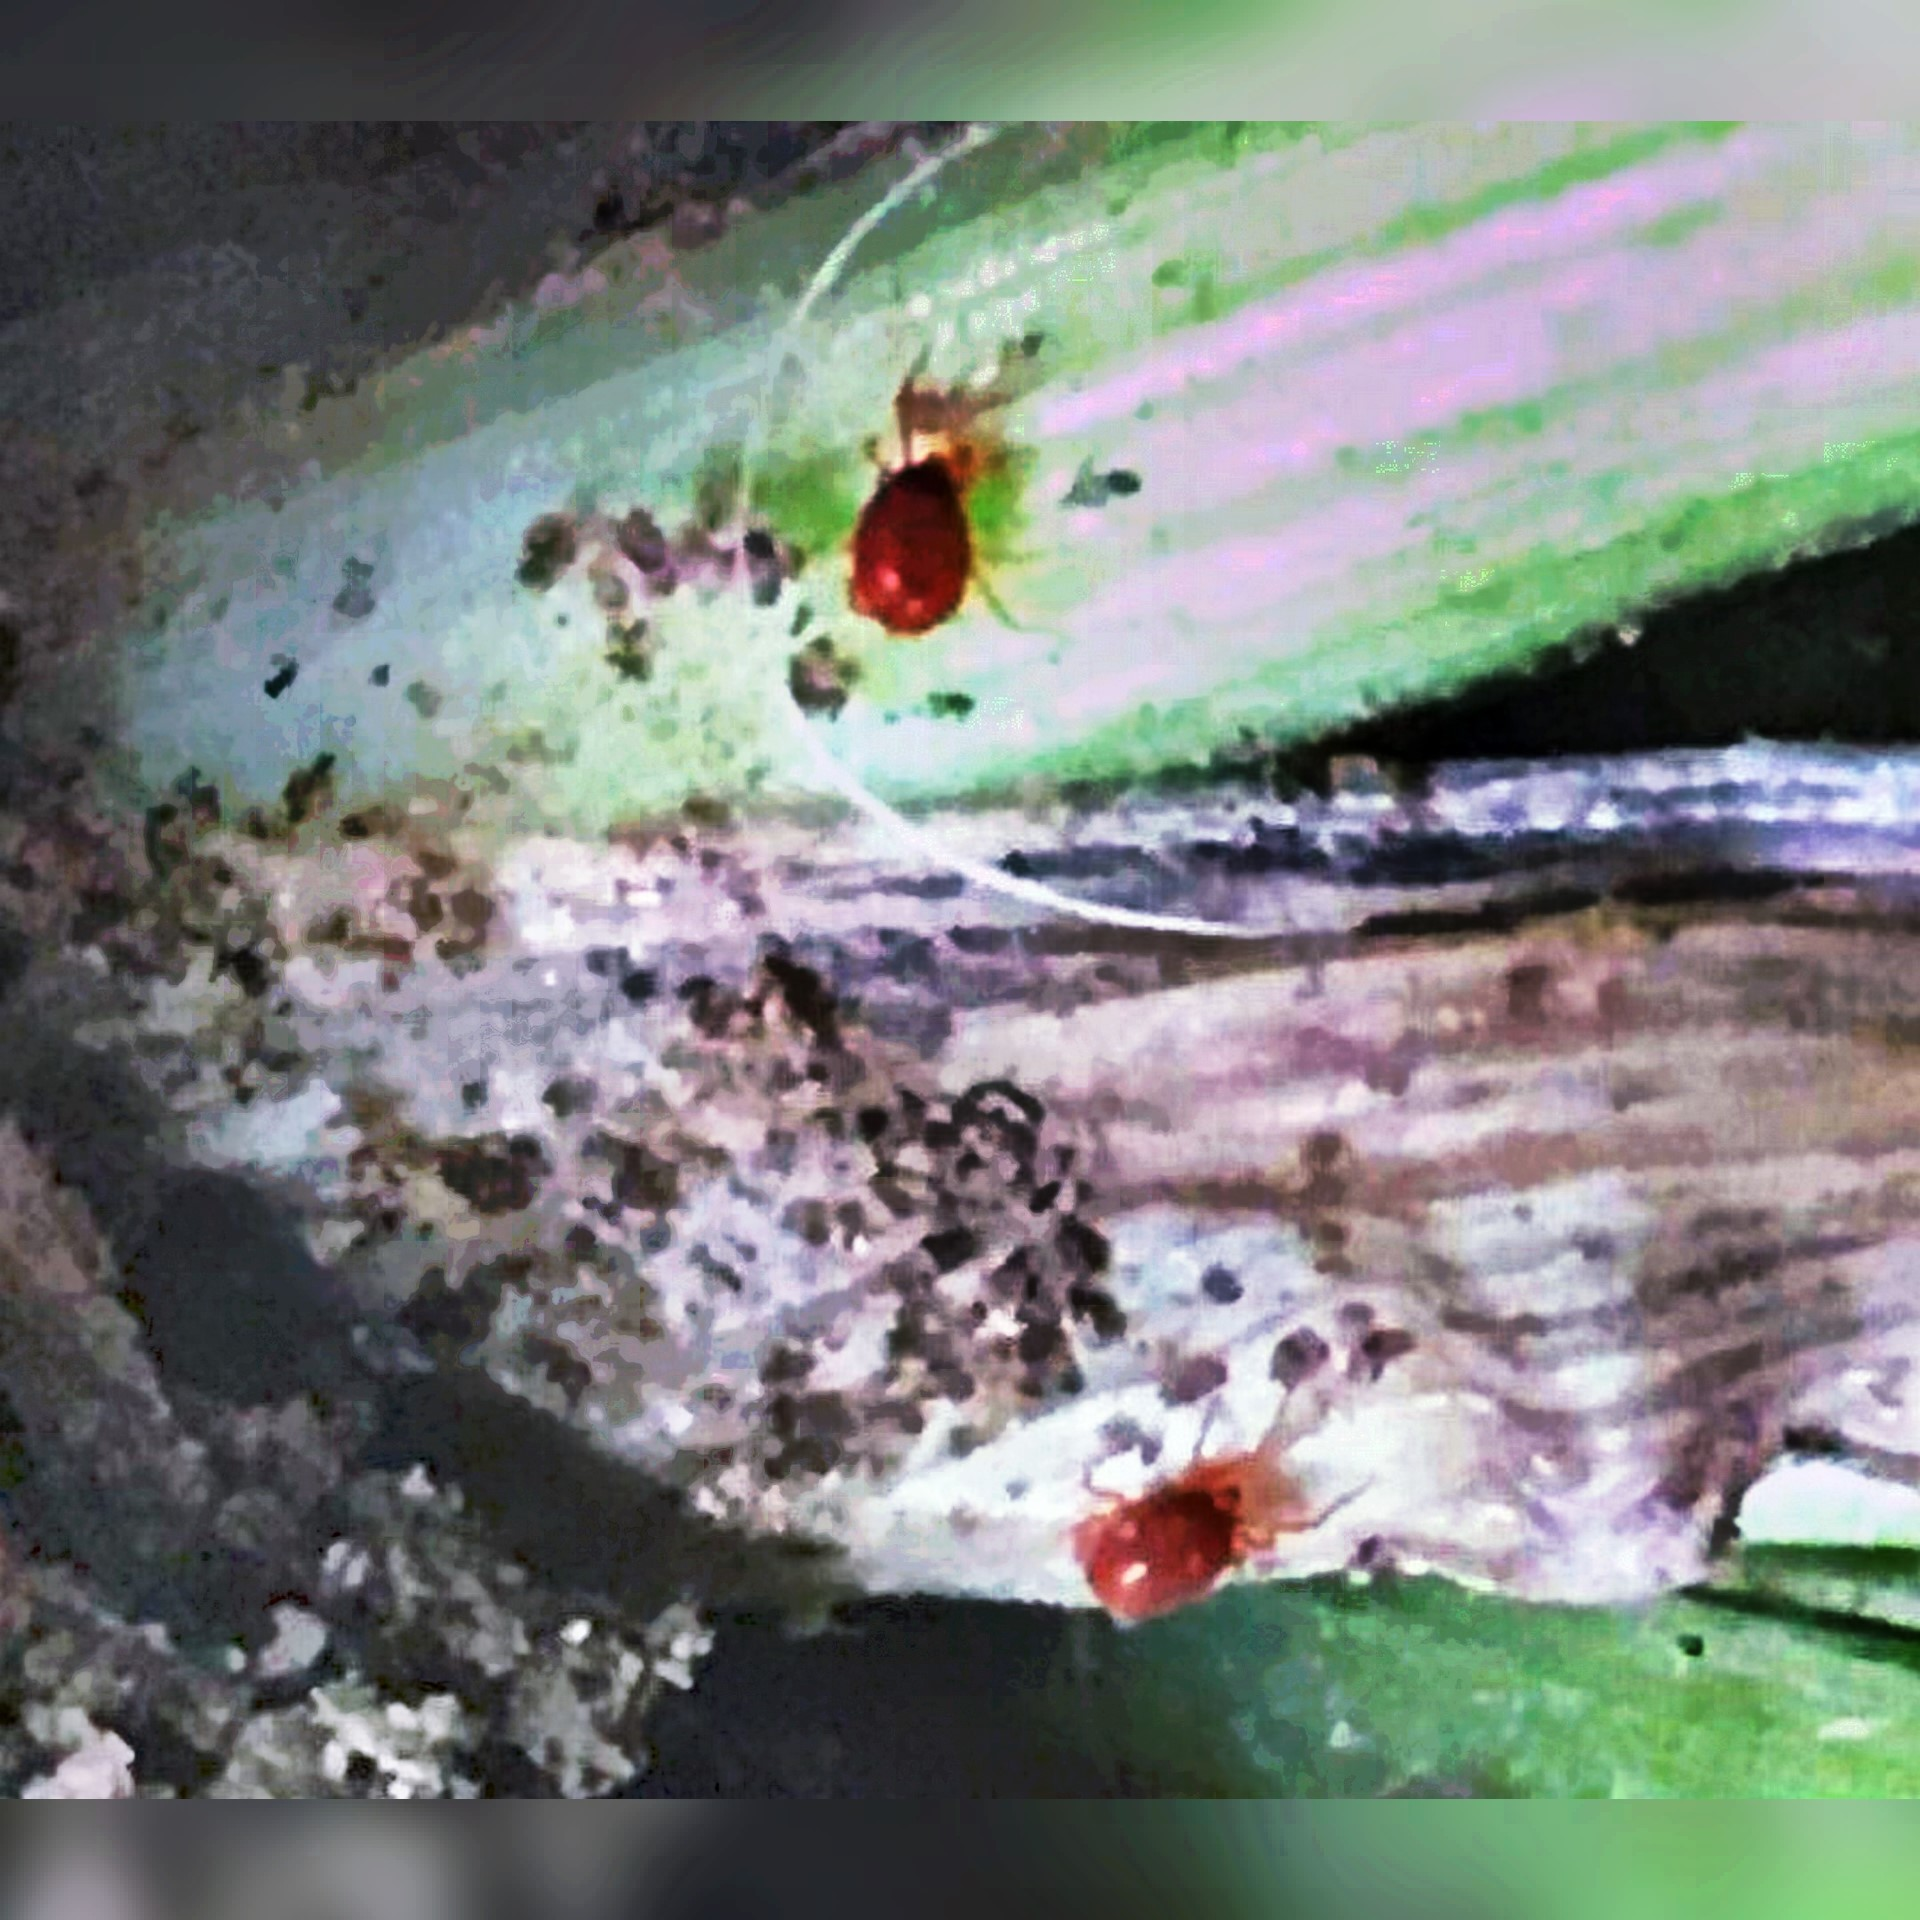Wheat Red Spider: (1043, 1377, 1387, 1642)
